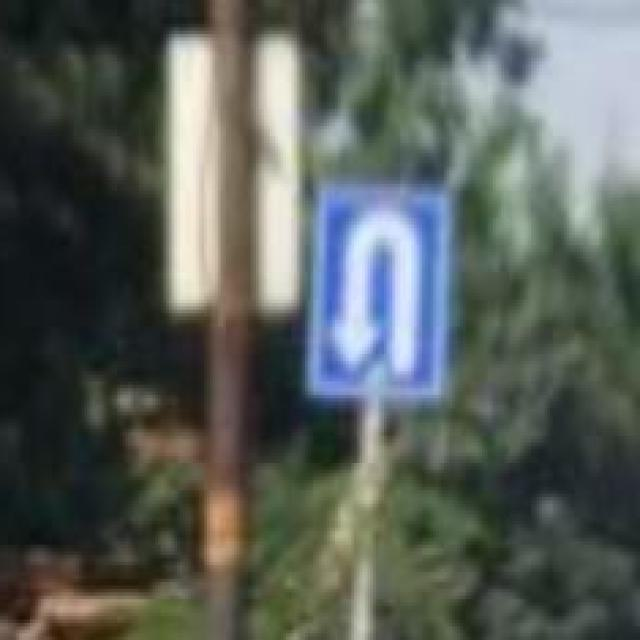U-turn: (317, 189, 441, 394)
